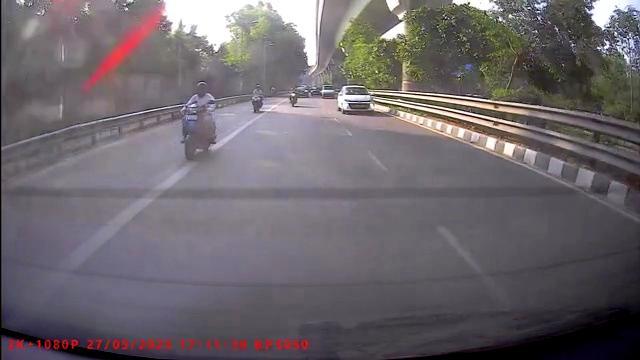motorcycle_with_helmet: (179, 80, 218, 162), (250, 83, 264, 113)
